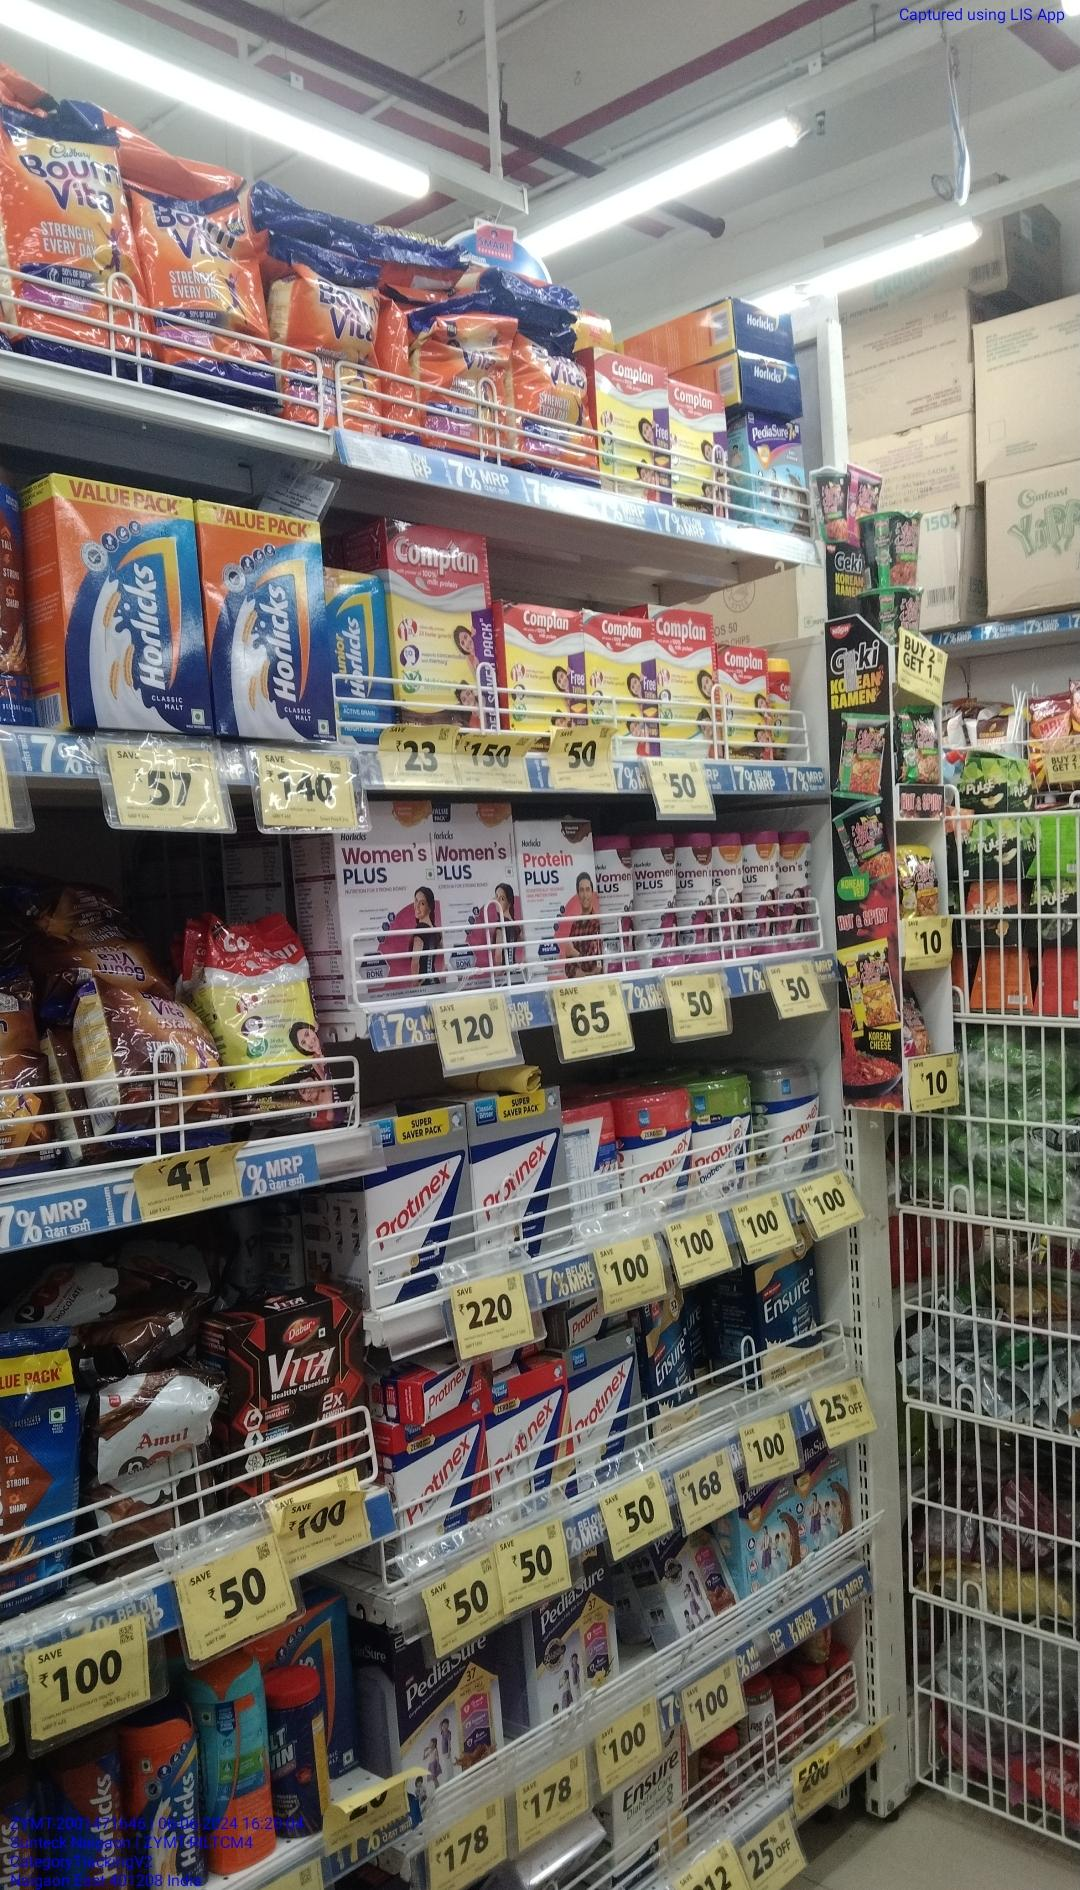BOURN_VITA_750_G_POUCH: (140, 188, 274, 399), (284, 247, 386, 432), (418, 293, 517, 460)
HORLICK_CLASSIC_MALT_500_G_JAR: (127, 1703, 202, 1890)
PEDIASURE_7_PLUS_CHOCOLATE_400_G_PACK: (744, 1467, 806, 1580), (807, 1433, 850, 1556)
PEDIASURE_VANILLA_500_G_PACK: (537, 1577, 622, 1711)
PROTINEX_ORIGINAL_400_G_JAR: (763, 1061, 822, 1177)
